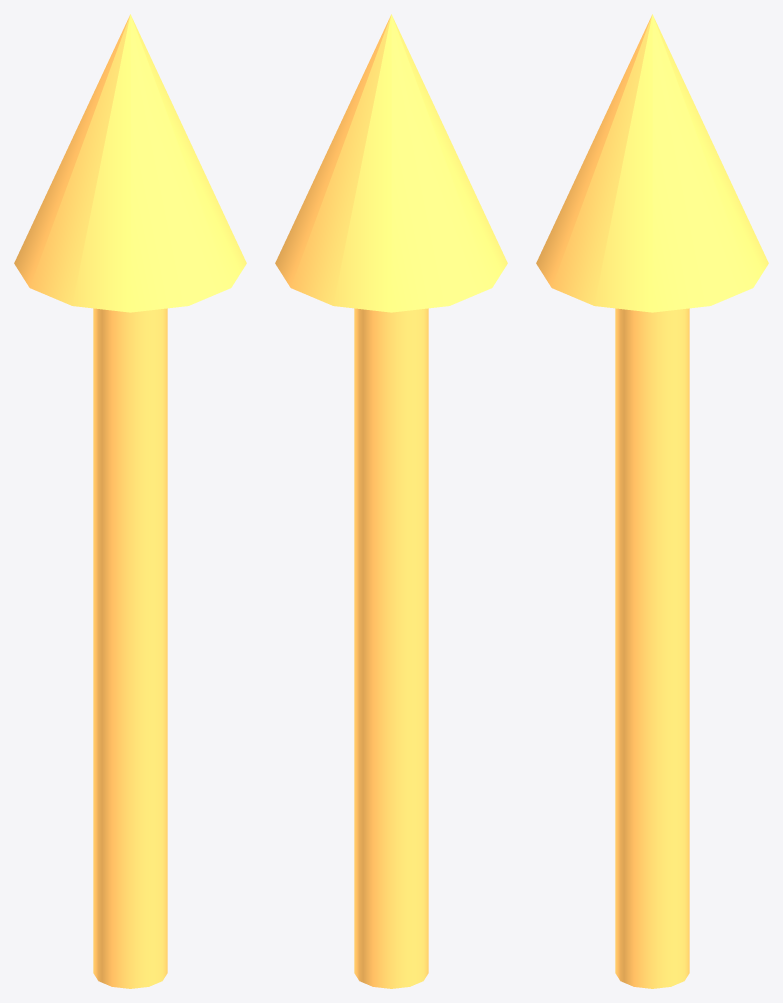
The model's file is vector-arrow.glb.
3 renders of one model, left to right at view 1: azimuth 30°, elevation 25°; view 2: azimuth 150°, elevation 25°; view 3: azimuth 270°, elevation 25°, orthographic.
Parts seen in each view (by area): view 1: shaft, tip; view 2: shaft, tip; view 3: shaft, tip.
Part boxes in pixels (x1=…): shaft: x1=93, y1=308, x2=167, y2=988; tip: x1=14, y1=14, x2=246, y2=312; shaft: x1=354, y1=308, x2=428, y2=988; tip: x1=275, y1=14, x2=507, y2=312; shaft: x1=615, y1=308, x2=689, y2=988; tip: x1=536, y1=14, x2=768, y2=312.
Bounding box in the file's own units: 0.22 × 1 × 0.22.
